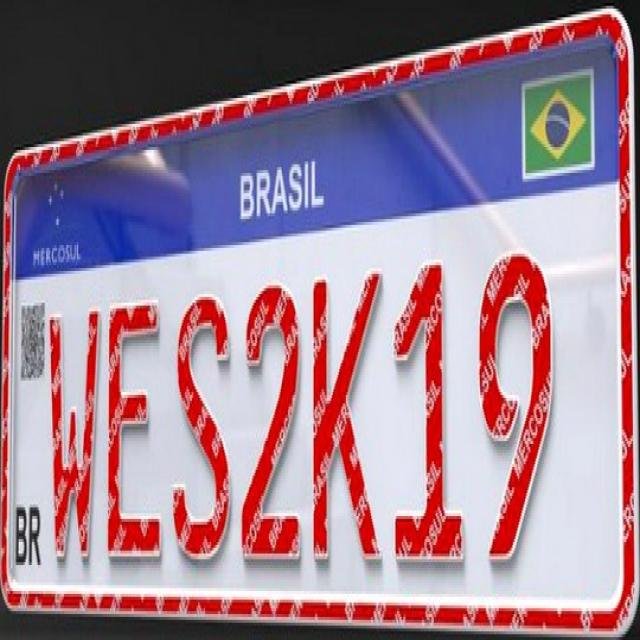Placa_mercosul_carro: (5, 23, 640, 640)
